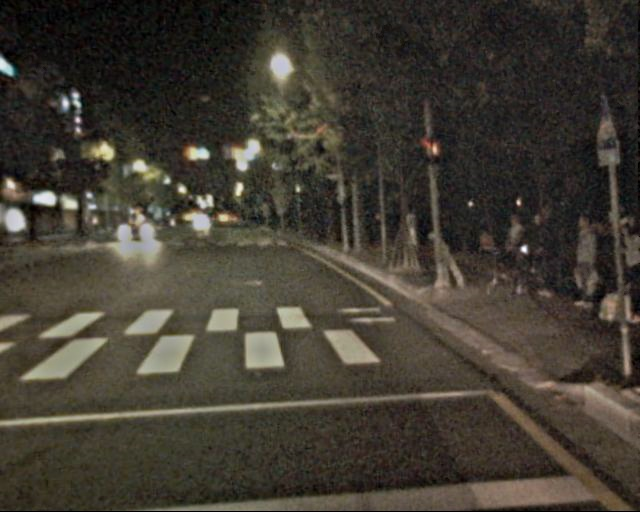person: (506, 209, 561, 295), (566, 216, 604, 309), (609, 214, 640, 325)
